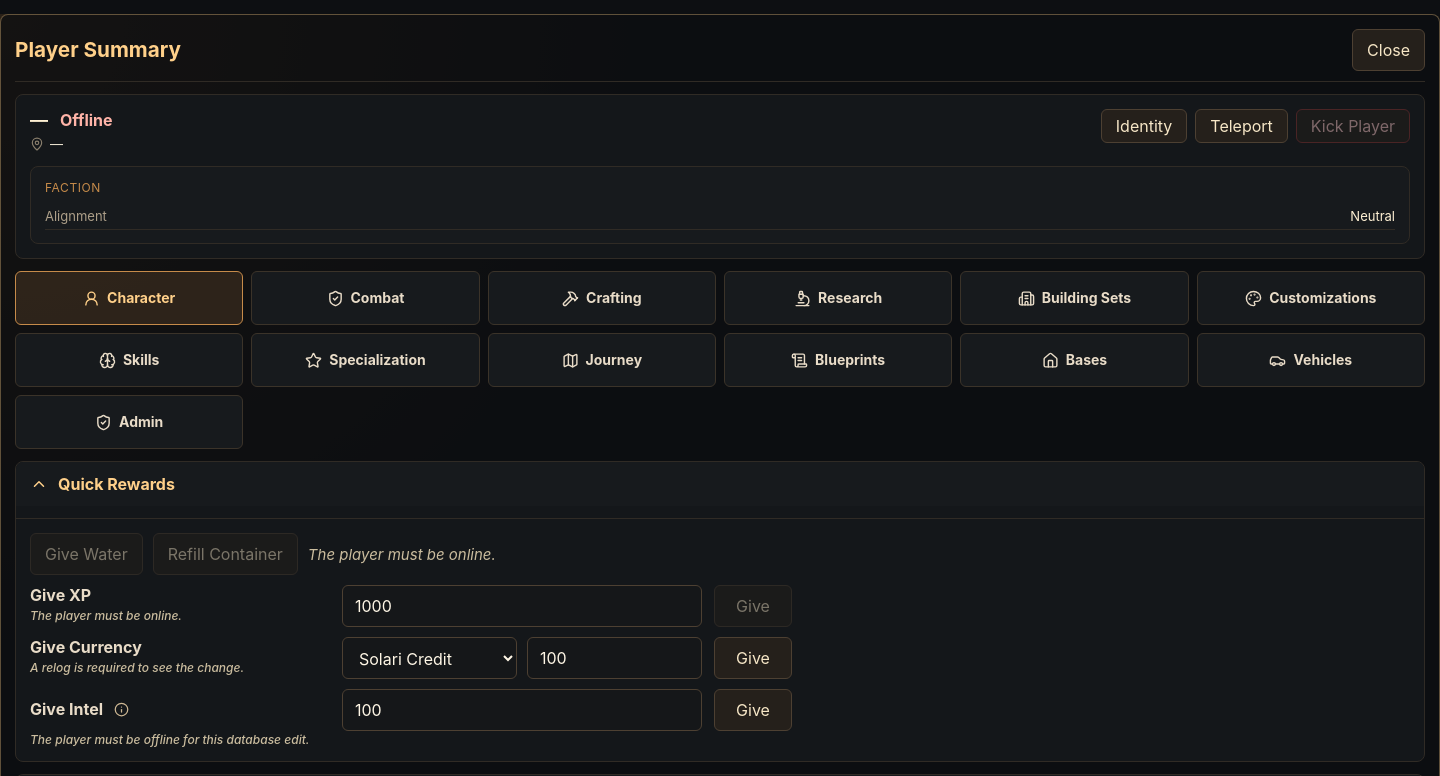
Test: CharacterAdminUI currency schema › uses the current House Credit option and stable currency id
The width and height of the screenshot is (1440, 776).
Select "House Credit" in the dropdown: (430, 658) [342, 637, 517, 679]
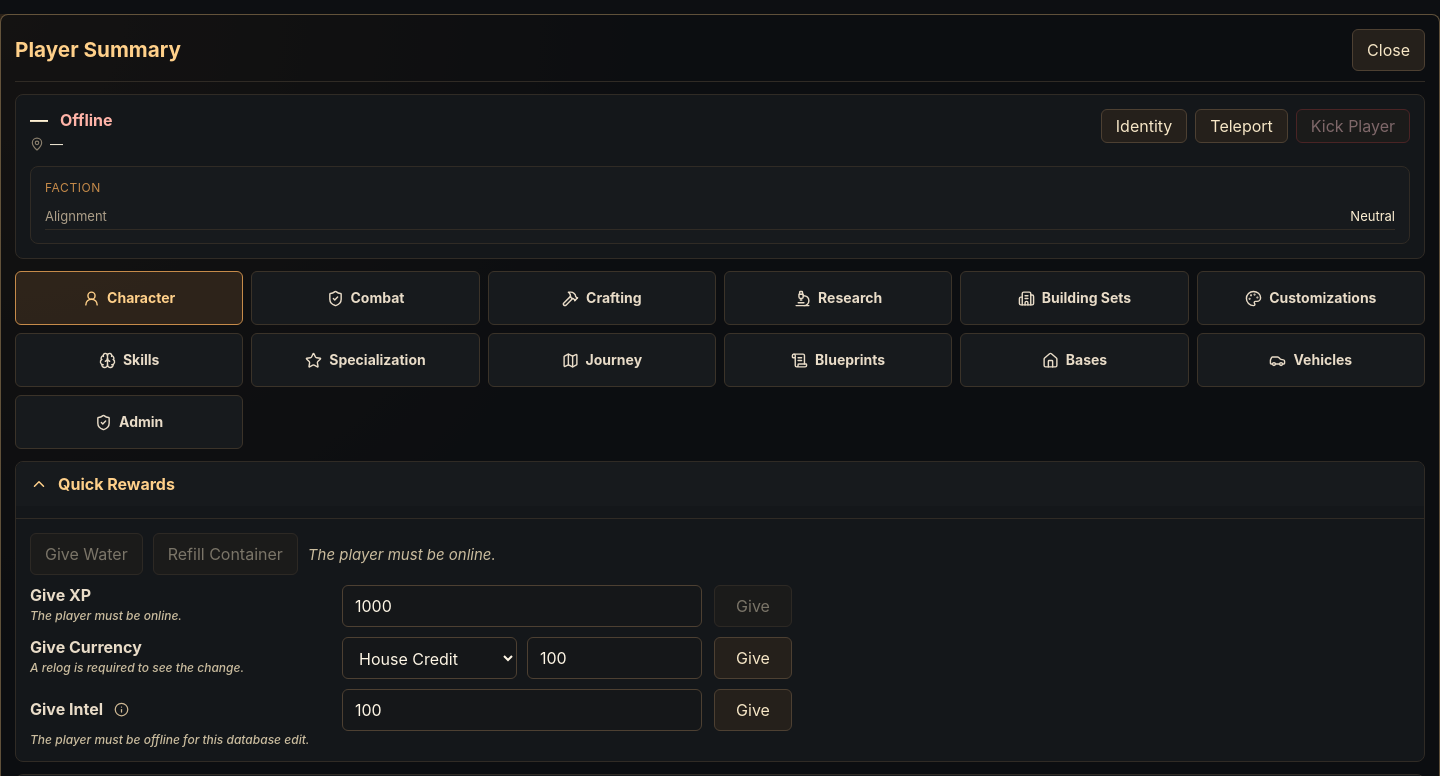
Click the button "Give" in the row of "A relog is required to see the change.": (753, 658) [714, 637, 792, 679]
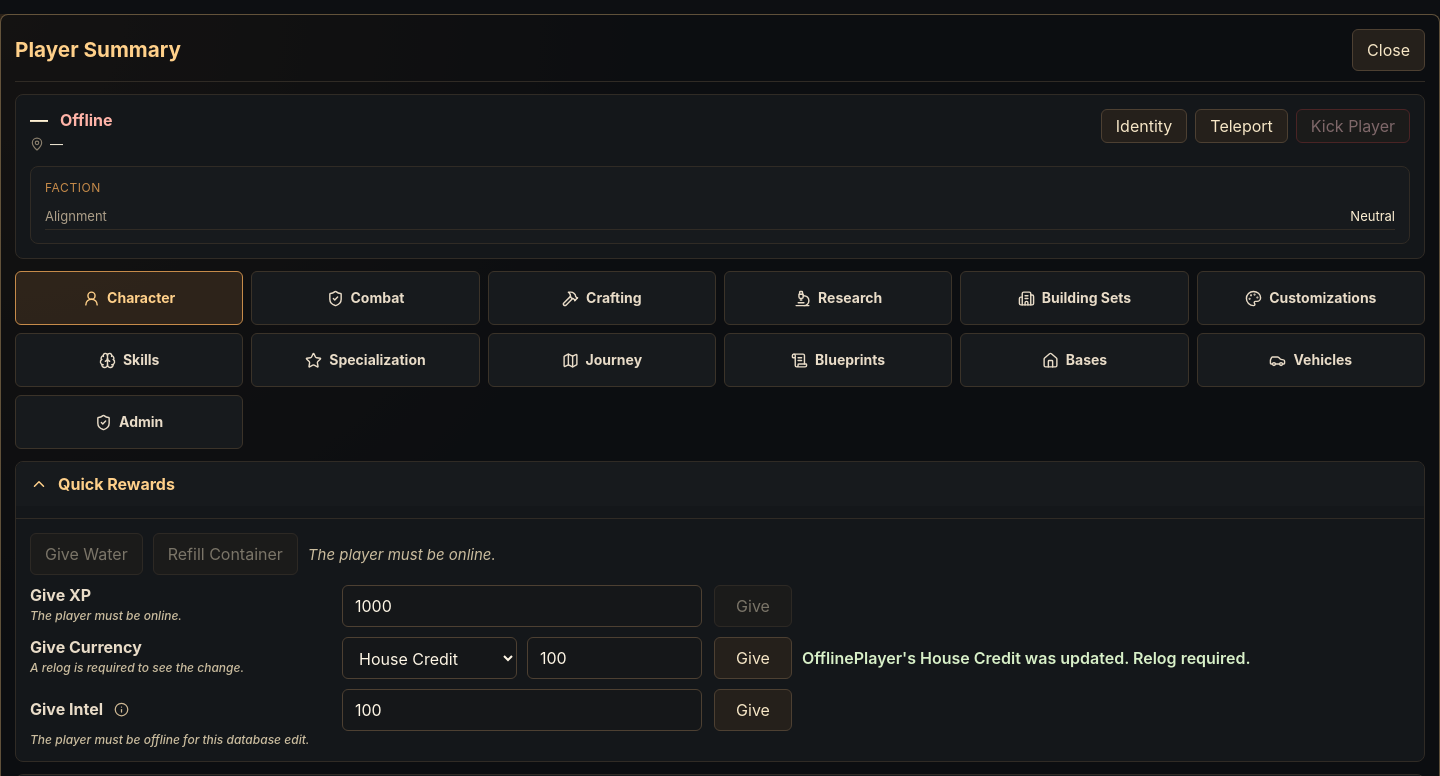
Now the text "OfflinePlayer's House Credit was updated. Relog required." is shown, box [802, 648, 1251, 668]
